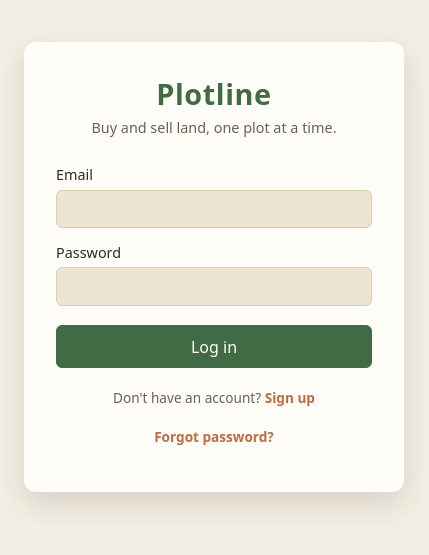
LoginPage › shows a generic error message for unexpected failures
Type "user@example.com" into the field labelled "Email" at (214, 209), box top-left (56, 190), bottom-right (372, 228)
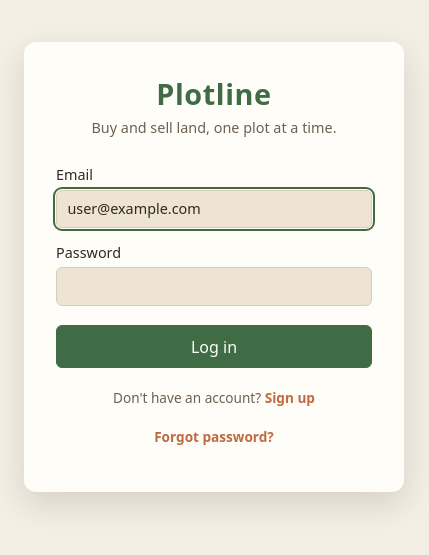
Type "password123" into the password field labelled "Password" at (214, 286), box top-left (56, 267), bottom-right (372, 306)
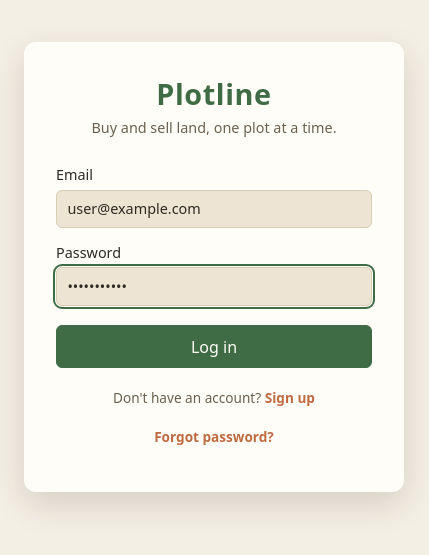
Click the button "Log in" at (214, 347), box top-left (56, 325), bottom-right (372, 368)
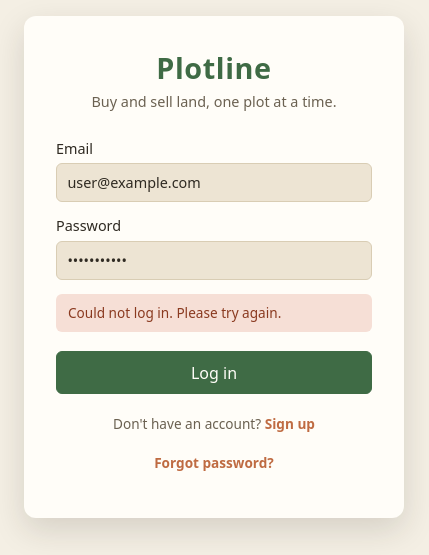
Expected: the text "Could not log in. Please try again." is shown, top-left (56, 294), bottom-right (372, 332)
